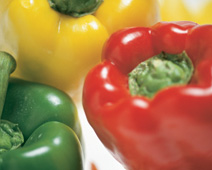capsicum: (83, 22, 211, 169), (0, 1, 160, 92), (0, 50, 83, 169)
